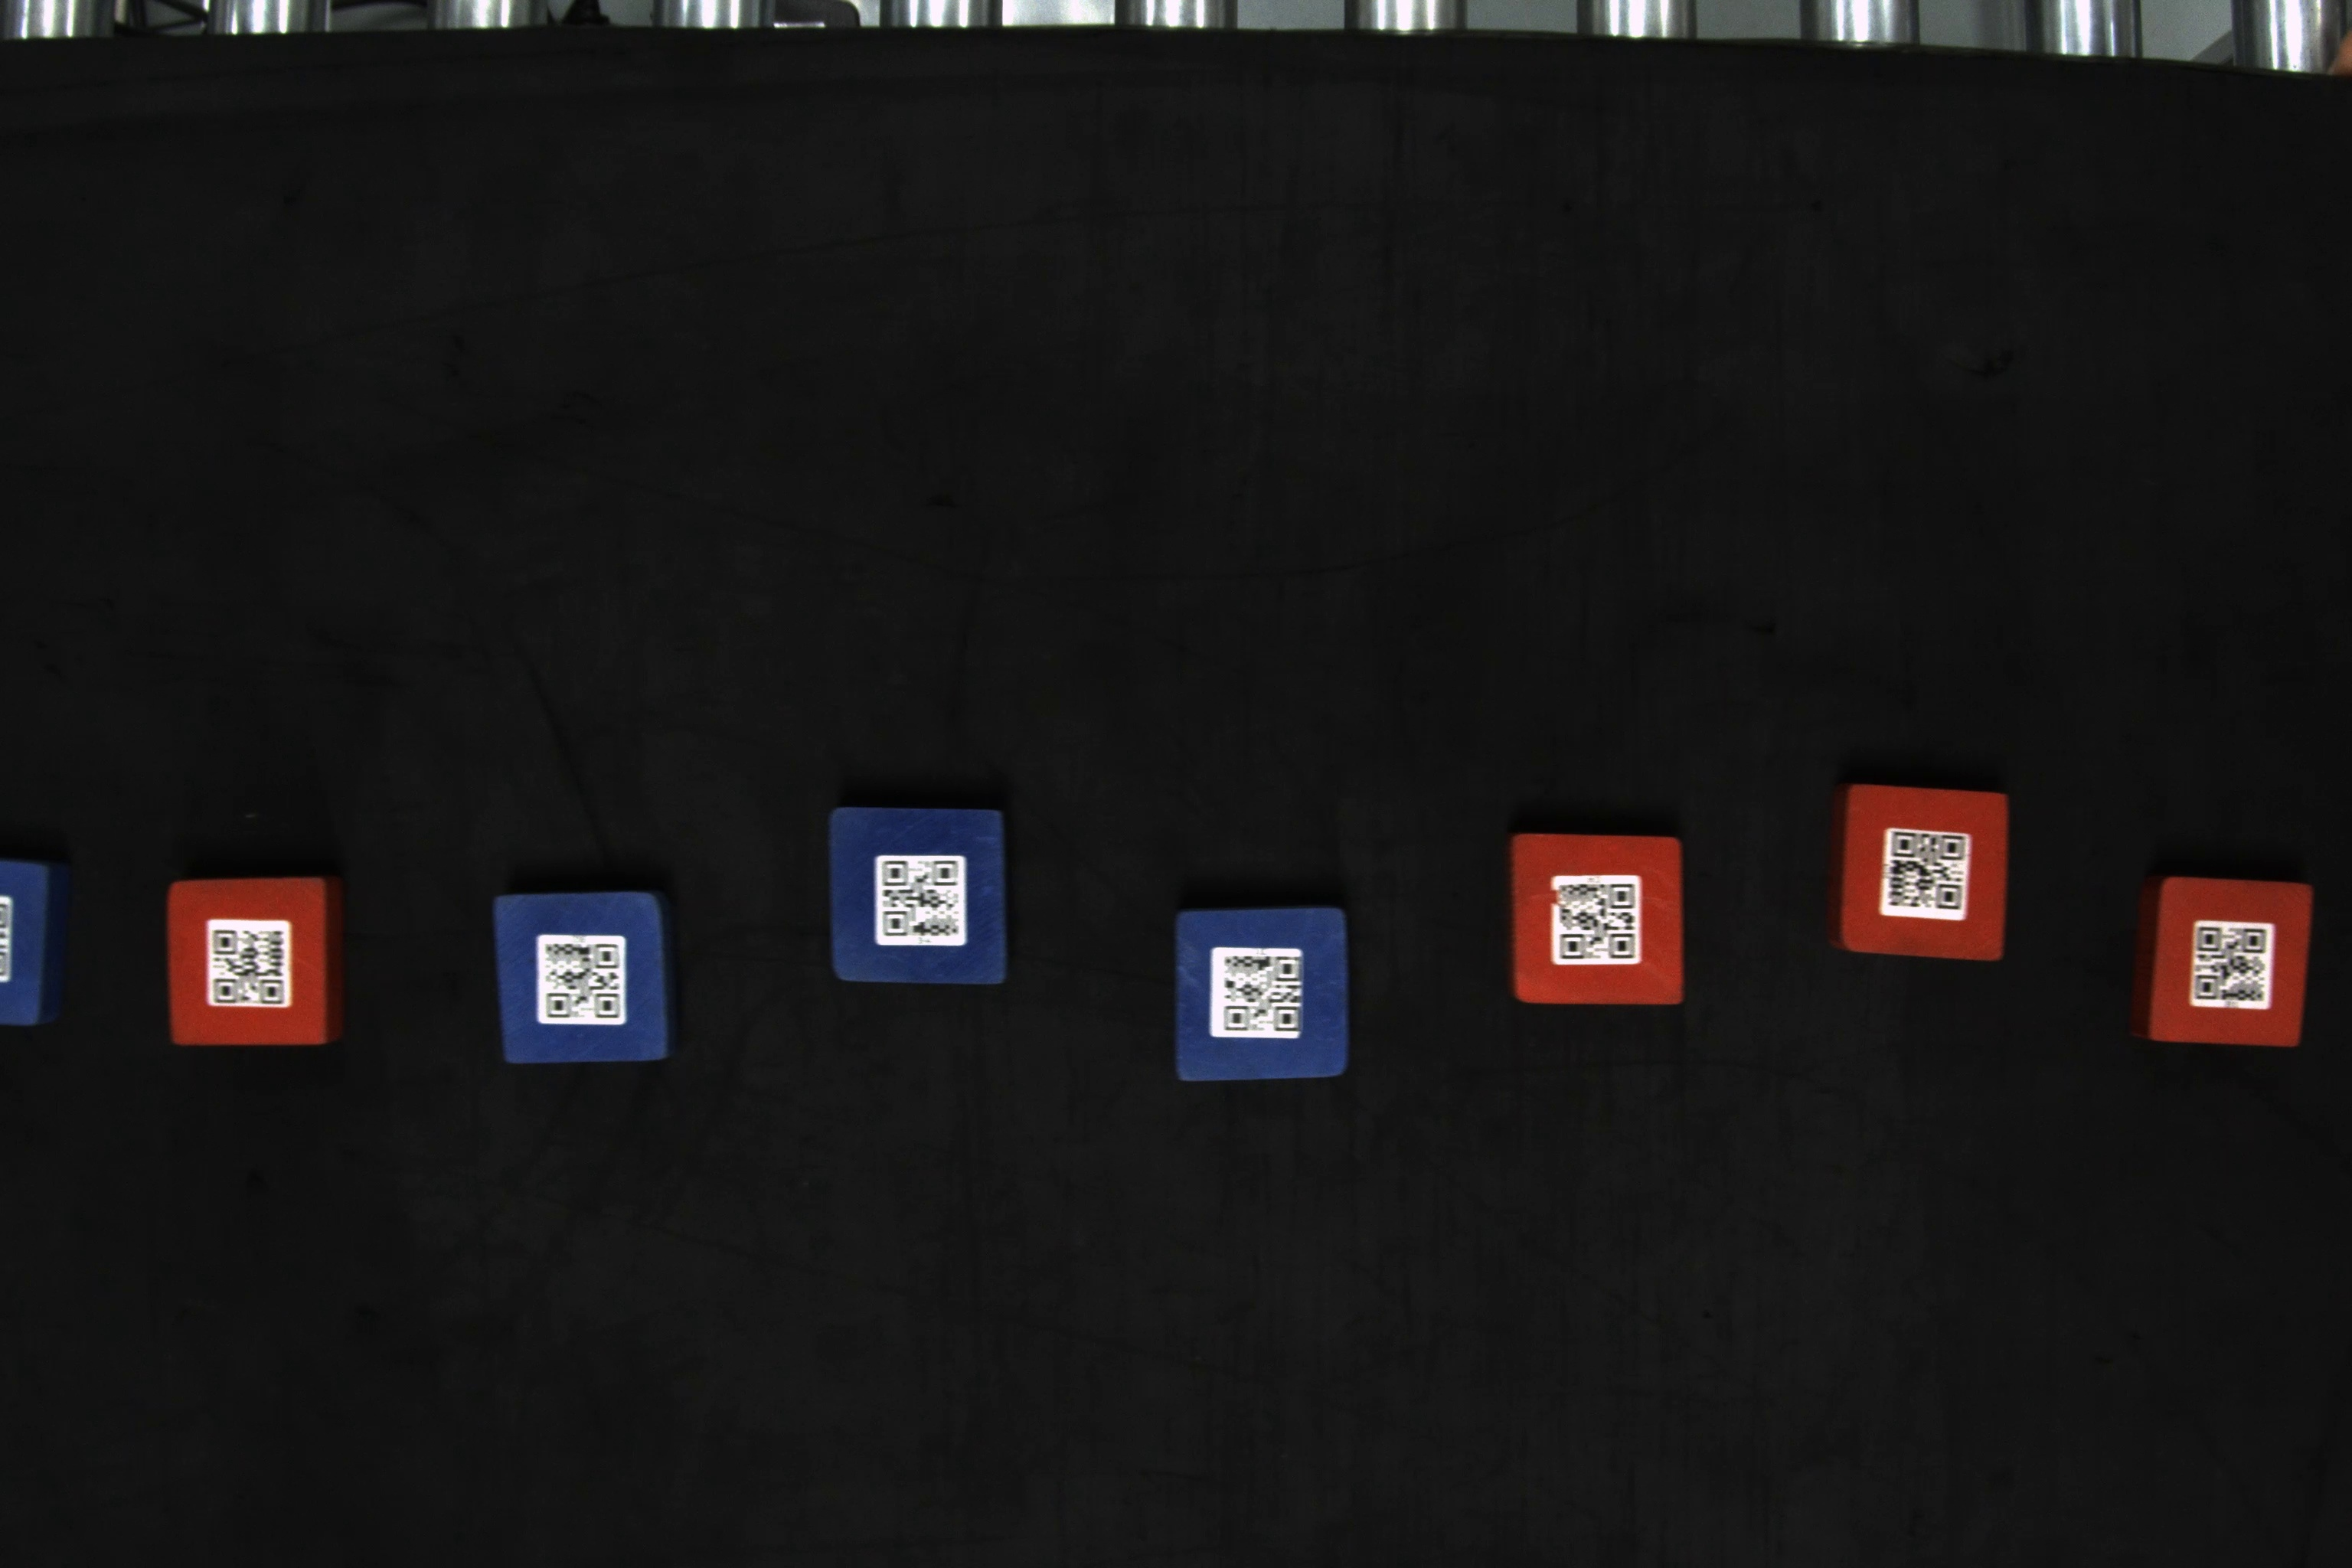wood: (481, 889, 689, 1074), (824, 798, 1022, 992), (1827, 765, 2011, 968), (1501, 822, 1692, 1015), (2126, 864, 2315, 1048), (1169, 901, 1354, 1087), (154, 880, 352, 1053), (3, 850, 61, 1034)
